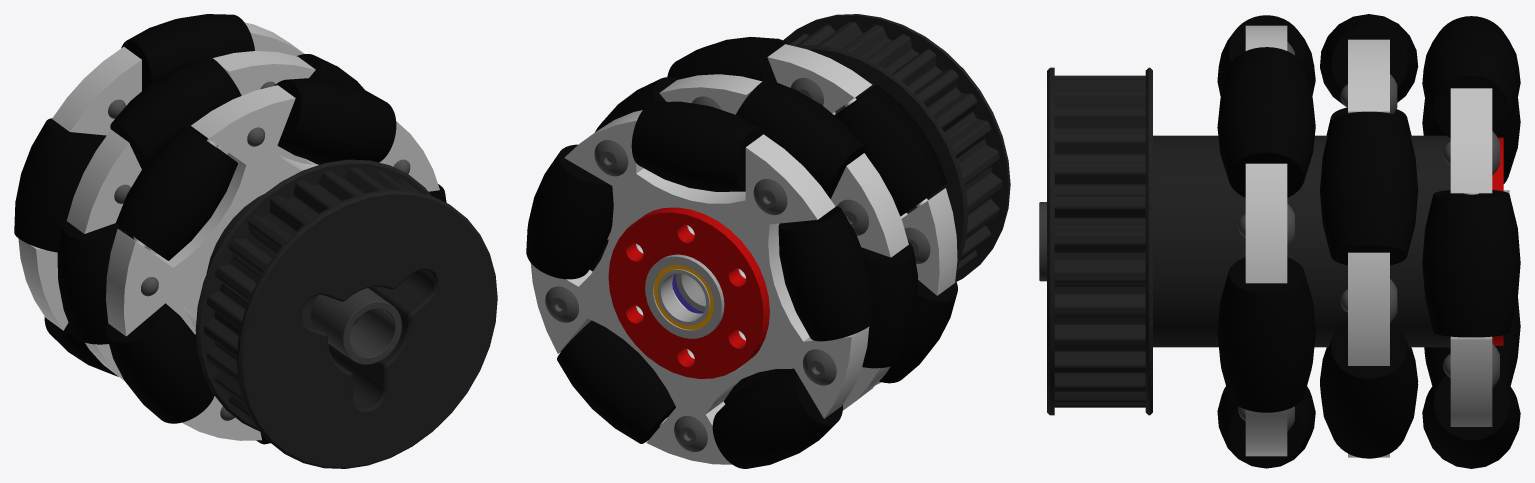
File: omniwheel.glb
3 views of the same model, side by side, from view 1: azimuth 30°, elevation 25°; view 2: azimuth 150°, elevation 25°; view 3: azimuth 270°, elevation 25° (orthographic). The views are drawn at different scales.
Visible parts, largest first — view 1: Pulley001, MainPlate_116, Roller_87, MainPlate, Roller_81, Roller_63, Roller_45, Roller_9, Roller, Roller_51, MainPlate_73, MainPlate_62 (+12 smaller); view 2: MainPlate, Pulley001, Plate, Roller_9, Roller, Roller_21, Roller_27, Roller_15, Roller_87, Roller_45, Roller_51, CoreMF128 (+20 smaller); view 3: Pulley001, Roller_27, Roller_39, Roller_75, Roller_81, MainPlate, Roller, Roller_33, Spacer001_52, Spacer001, MainPlate_105, MainPlate_55 (+19 smaller).
Part boxes in pixels (<box>): Pulley001: <box>195,159,497,468</box>; MainPlate_116: <box>124,98,439,440</box>; Roller_87: <box>116,126,237,260</box>; MainPlate: <box>18,22,304,330</box>; Roller_81: <box>277,78,395,163</box>; Roller_63: <box>107,303,214,423</box>; Roller_45: <box>112,56,240,162</box>; Roller_9: <box>14,122,101,251</box>; Roller: <box>121,14,254,90</box>; Roller_51: <box>57,226,134,344</box>; MainPlate_73: <box>84,64,315,379</box>; MainPlate_62: <box>66,129,128,233</box>; MainPlate: <box>530,110,869,464</box>; Pulley001: <box>783,14,1010,281</box>; Plate: <box>608,207,769,378</box>; Roller_9: <box>778,209,873,340</box>; Roller: <box>631,101,766,191</box>; Roller_21: <box>557,321,674,443</box>; Roller_27: <box>526,153,613,279</box>; Roller_15: <box>713,368,835,468</box>; Roller_87: <box>835,85,947,215</box>; Roller_45: <box>736,79,863,191</box>; Roller_51: <box>862,250,917,367</box>; CoreMF128: <box>645,254,724,338</box>; Pulley001: <box>1047,67,1245,415</box>; Roller_27: <box>1422,195,1520,336</box>; Roller_39: <box>1320,112,1418,255</box>; Roller_75: <box>1217,273,1315,412</box>; Roller_81: <box>1217,47,1315,181</box>; MainPlate: <box>1450,88,1492,426</box>; Roller: <box>1422,16,1520,137</box>; Roller_33: <box>1320,340,1418,458</box>; Spacer001_52: <box>1287,135,1347,347</box>; Spacer001: <box>1390,135,1450,347</box>; MainPlate_105: <box>1245,163,1287,283</box>; MainPlate_55: <box>1348,252,1389,365</box>.
Bounding box in the file's own units: 0.0599 × 0.0599 × 0.0634.
